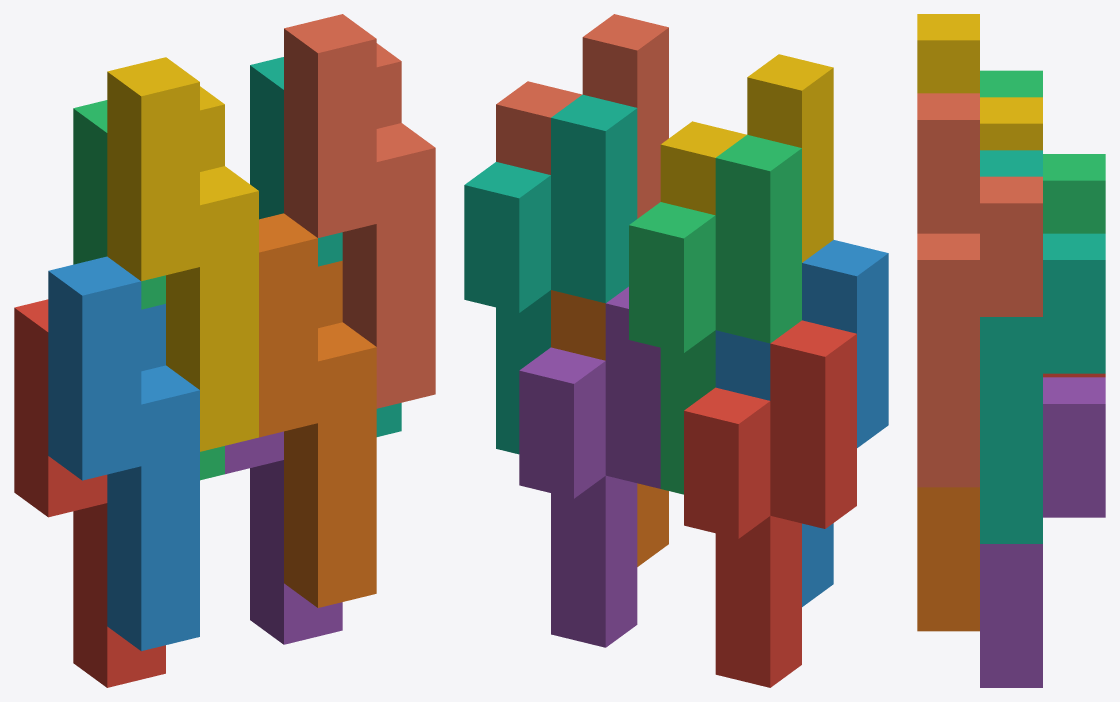
Rendered from tiling.obj.
3 views of the same model, side by side, from view 1: azimuth 30°, elevation 25°; view 2: azimuth 150°, elevation 25°; view 3: azimuth 270°, elevation 25° (orthographic). The views are drawn at different scales.
Parts seen in each view (by area): view 1: copy_1_domain_2, copy_1_domain_8, copy_1_domain_4, copy_1_domain_6, copy_1_domain_1, copy_1_domain_5, copy_1_domain_3, copy_1_domain_7; view 2: copy_1_domain_1, copy_1_domain_5, copy_1_domain_3, copy_1_domain_7, copy_1_domain_2, copy_1_domain_4, copy_1_domain_8, copy_1_domain_6; view 3: copy_1_domain_8, copy_1_domain_7, copy_1_domain_5, copy_1_domain_6, copy_1_domain_4, copy_1_domain_3, copy_1_domain_1.
Part boxes in pixels (x1,y1,x2,y2): copy_1_domain_2: (48, 256, 199, 651); copy_1_domain_8: (284, 14, 435, 408); copy_1_domain_4: (107, 57, 258, 451); copy_1_domain_6: (259, 213, 376, 607); copy_1_domain_1: (14, 299, 165, 687); copy_1_domain_5: (225, 431, 342, 644); copy_1_domain_3: (73, 100, 224, 480); copy_1_domain_7: (250, 57, 401, 436); copy_1_domain_1: (684, 320, 856, 687); copy_1_domain_5: (519, 286, 660, 647); copy_1_domain_3: (629, 134, 801, 494); copy_1_domain_7: (464, 94, 637, 454); copy_1_domain_2: (715, 240, 888, 606); copy_1_domain_4: (660, 54, 833, 262); copy_1_domain_8: (496, 14, 668, 218); copy_1_domain_6: (551, 290, 668, 566); copy_1_domain_8: (917, 93, 1042, 487); copy_1_domain_7: (980, 150, 1105, 543); copy_1_domain_5: (980, 377, 1105, 687); copy_1_domain_6: (917, 487, 979, 631); copy_1_domain_4: (917, 14, 1042, 150); copy_1_domain_3: (980, 70, 1105, 233); copy_1_domain_1: (1043, 373, 1105, 377).
Bounding box in the file's own units: 6 × 10 × 3.
